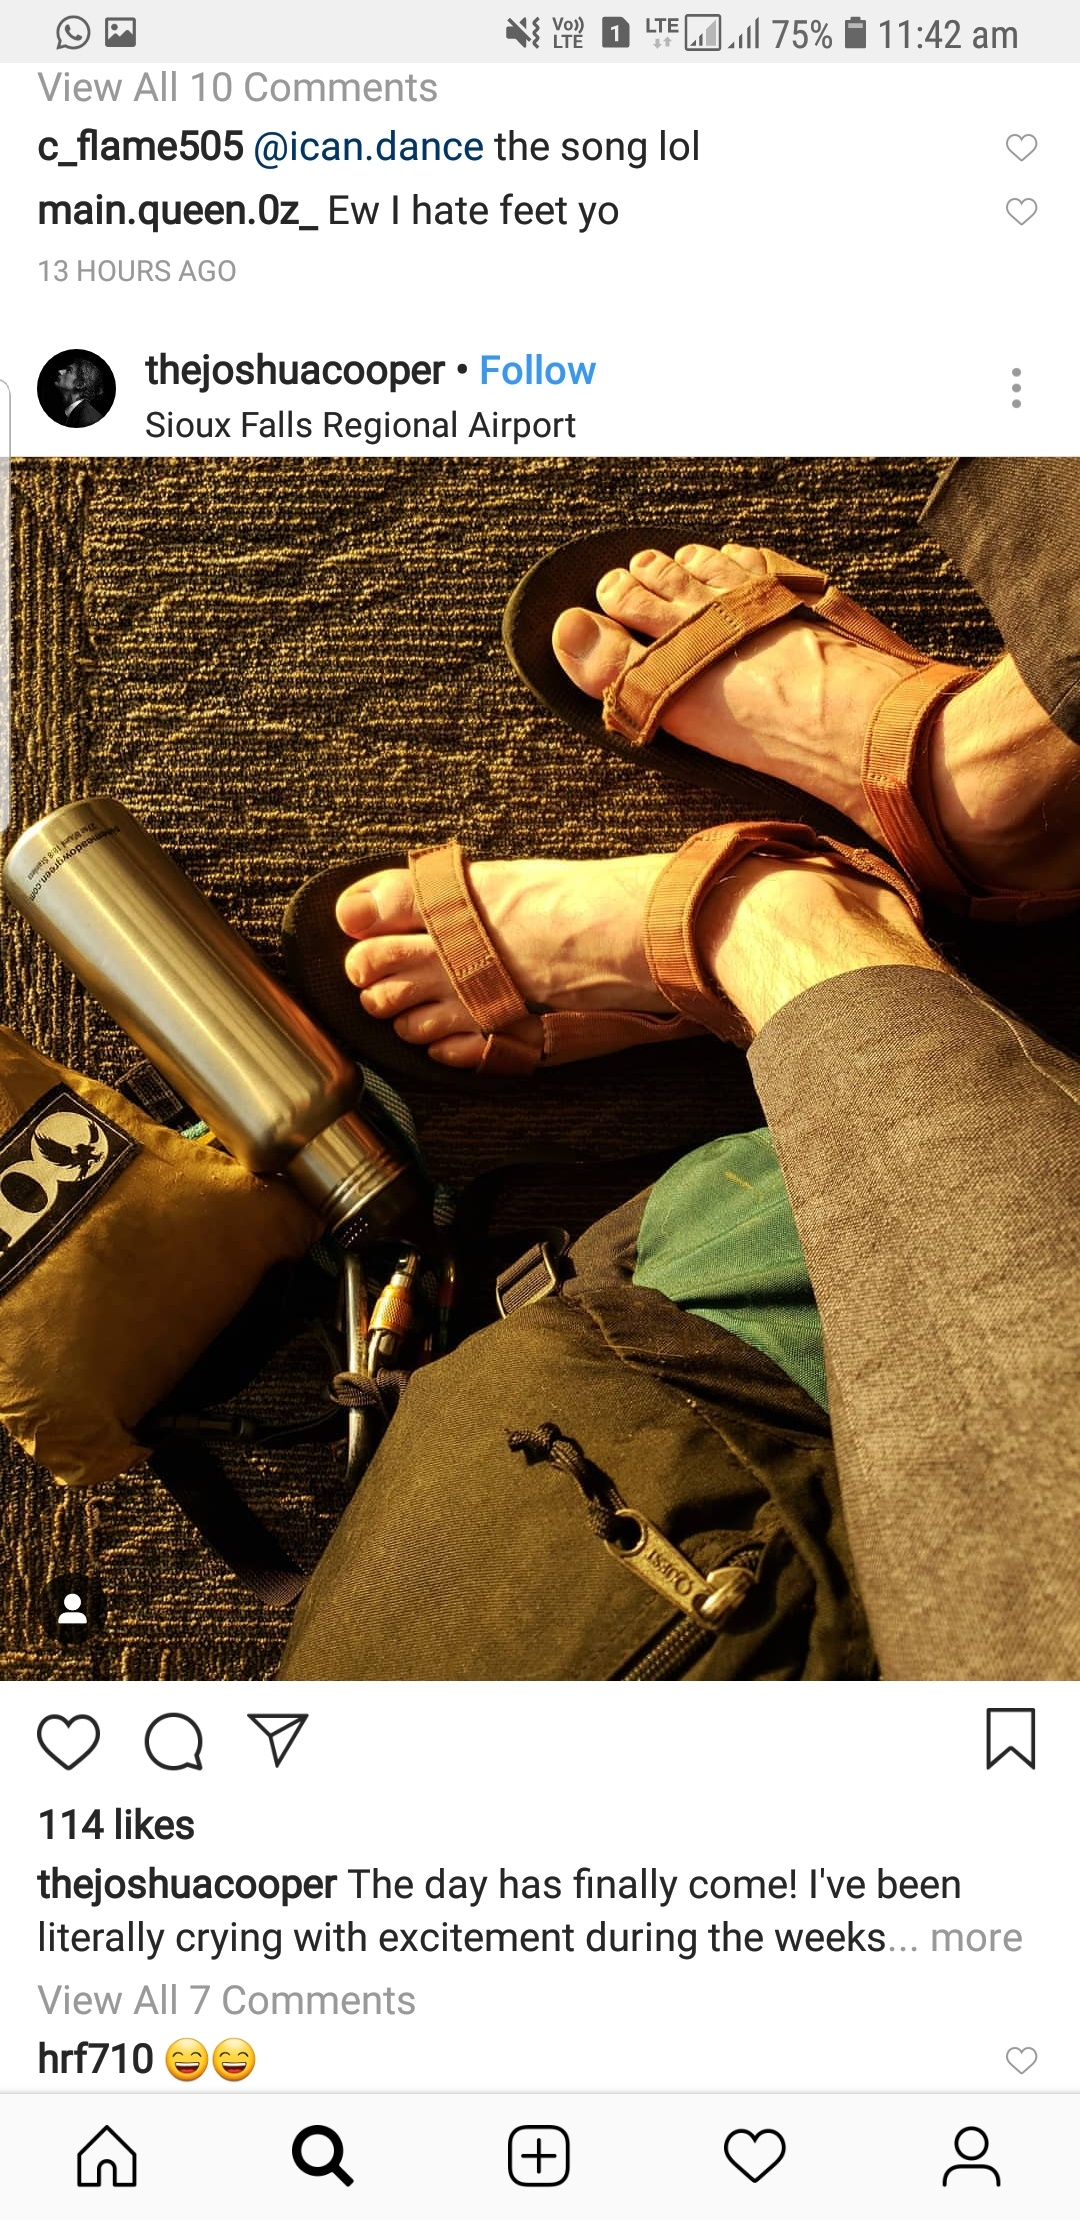feet: (251, 776, 923, 1059), (449, 500, 977, 842)
